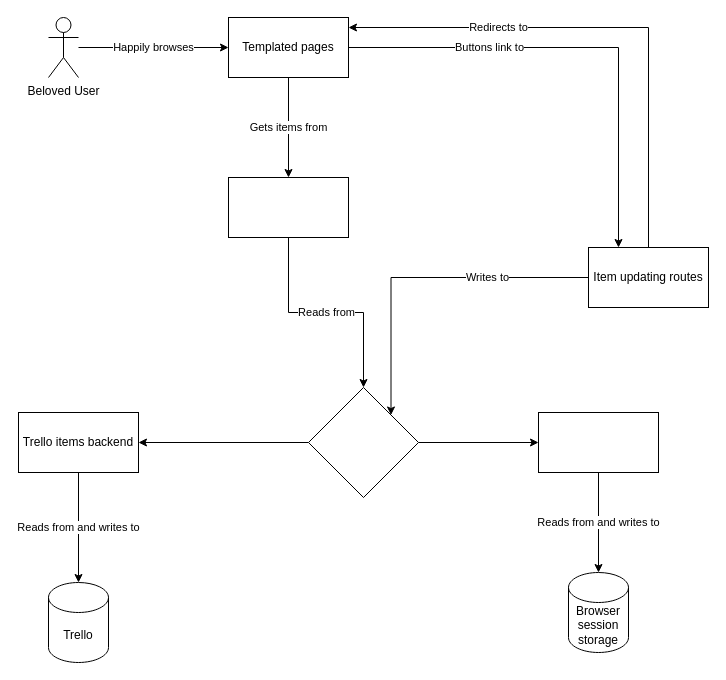
Image size: 726x680. Some labels were removed from this diagram. The shapes that lost their labels are listed below. From the top down, each one's centre as x and y in pixels, then its label:
(x=288, y=207): View model
(x=363, y=442): Choice of items backend
(x=598, y=442): Session items backend
